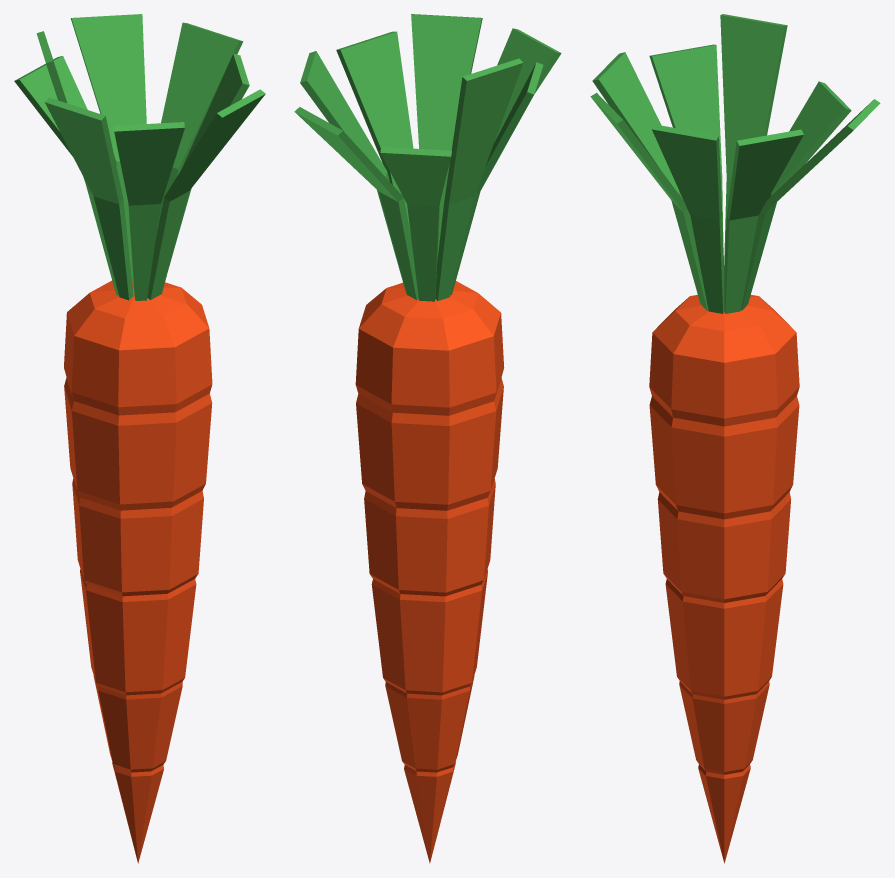
Rendered from Carrot.glb.
The picture shows the model from 3 angles, left to right: view 1: azimuth 30°, elevation 25°; view 2: azimuth 150°, elevation 25°; view 3: azimuth 270°, elevation 25°; orthographic projection. The views are drawn at different scales.
Visible parts, largest first — view 1: Carrot_Circle; view 2: Carrot_Circle; view 3: Carrot_Circle.
Part boxes in pixels (<box>): Carrot_Circle: <box>14,14,265,863</box>; Carrot_Circle: <box>294,14,561,863</box>; Carrot_Circle: <box>590,14,880,863</box>.
Size of the model in its own units: 3.15 by 11.74 by 3.82.
